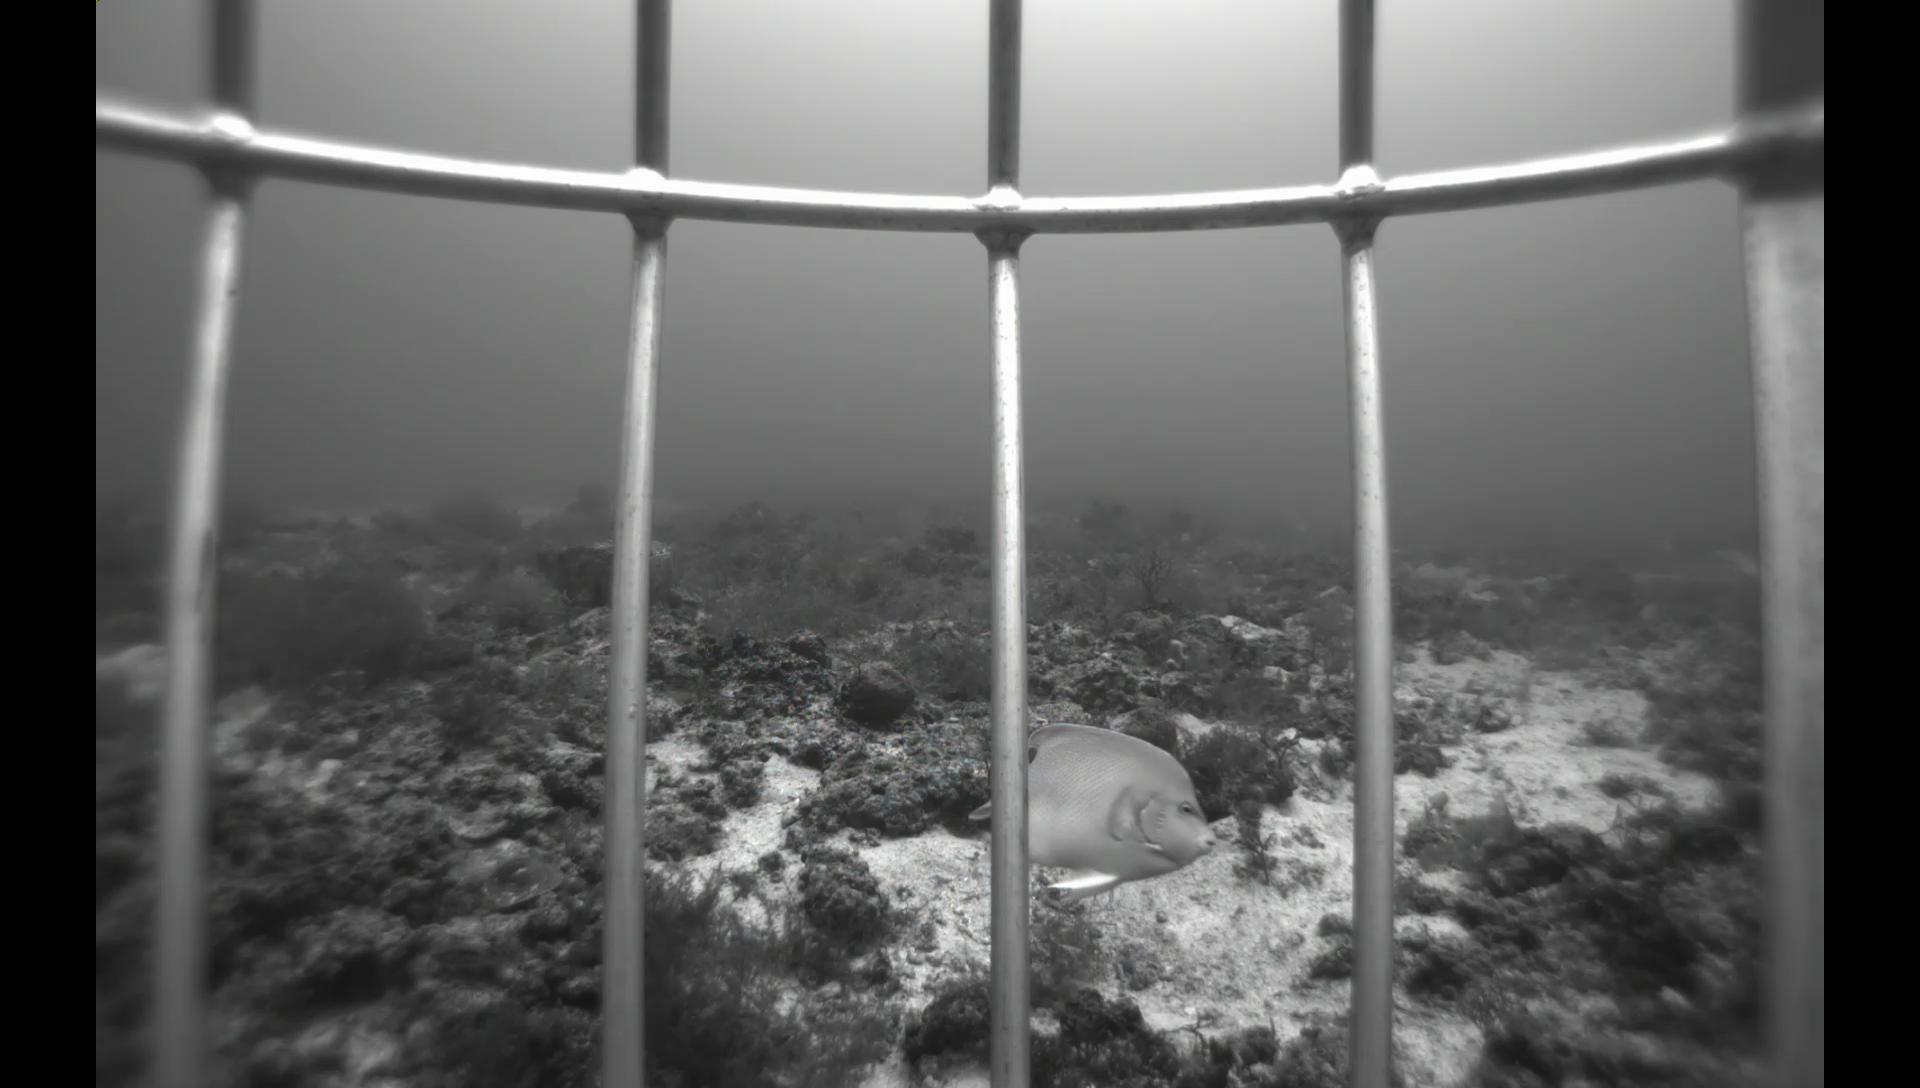HOLACANTHUSBERMUDENSIS-170290102: (964, 715, 1230, 906), (1705, 542, 1758, 588)
SERRANUSANNULARIS-170024201: (419, 942, 526, 982)
